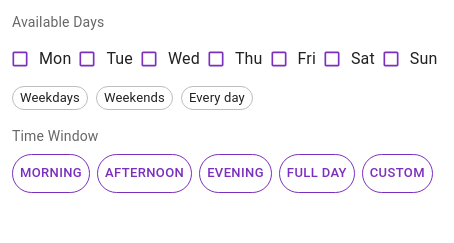
Test case: AvailabilitySelector component › shows "Weekdays selected" summary when Mon–Fri are checked
Click the button "Weekdays": {"x": 50, "y": 98} [12,86,88,110]
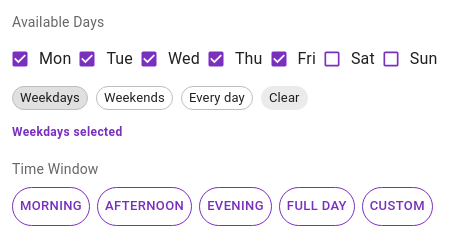
Result: the text "Weekdays selected" is shown at [12,125,123,139]
